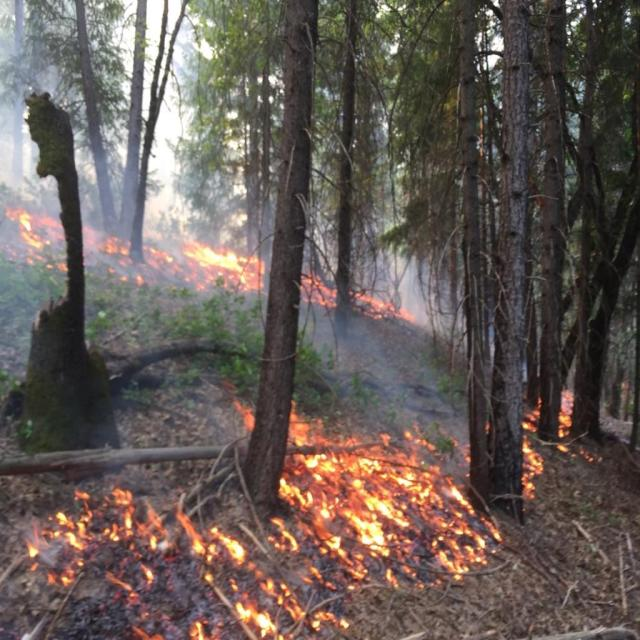Fire: (0, 394, 579, 640), (11, 203, 408, 324)
